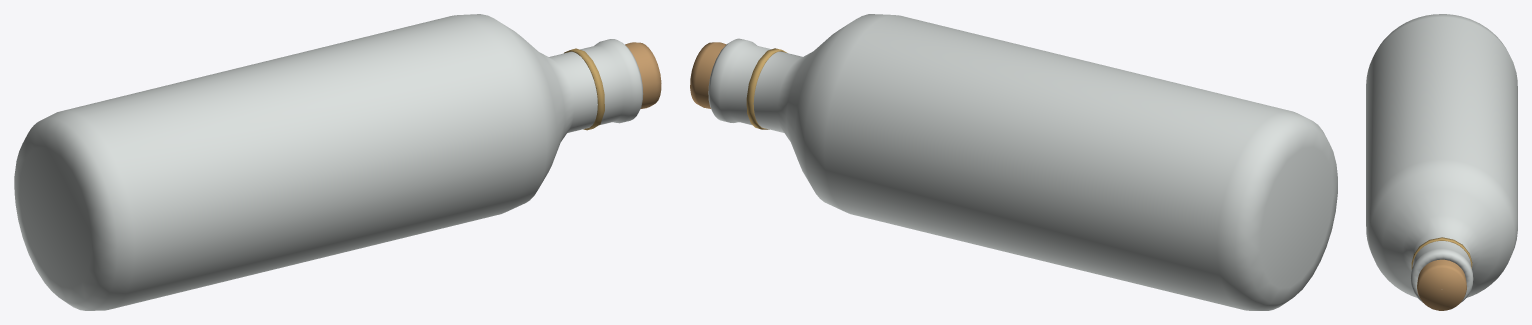
File: rowboat-bottle-v9-game-preview-v2.fbx
The picture shows the model from 3 angles, left to right: view 1: azimuth 30°, elevation 25°; view 2: azimuth 150°, elevation 25°; view 3: azimuth 270°, elevation 25°; orthographic projection. The views are drawn at different scales.
Parts seen in each view (by area): view 1: Bottle | lightweight transparent glass, Rowboat | lightweight opaque assembly; view 2: Bottle | lightweight transparent glass, Rowboat | lightweight opaque assembly; view 3: Bottle | lightweight transparent glass, Rowboat | lightweight opaque assembly.
Boxes of the visible parts, x1,y1,x2,y2 form: Bottle | lightweight transparent glass: (14, 14, 643, 310); Rowboat | lightweight opaque assembly: (564, 42, 661, 130); Bottle | lightweight transparent glass: (708, 14, 1337, 310); Rowboat | lightweight opaque assembly: (690, 42, 786, 129); Bottle | lightweight transparent glass: (1366, 14, 1517, 302); Rowboat | lightweight opaque assembly: (1411, 237, 1472, 310).
Bounding box in the file's own units: 188 × 56.42 × 56.4.
